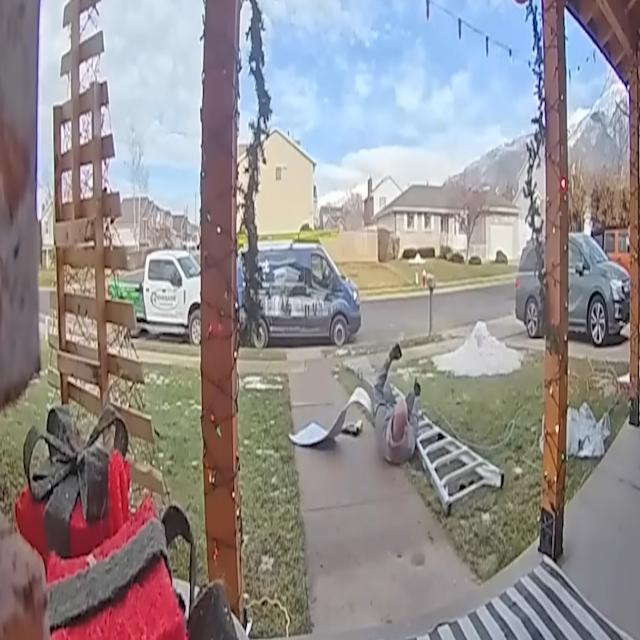fallen: (371, 343, 420, 465)
